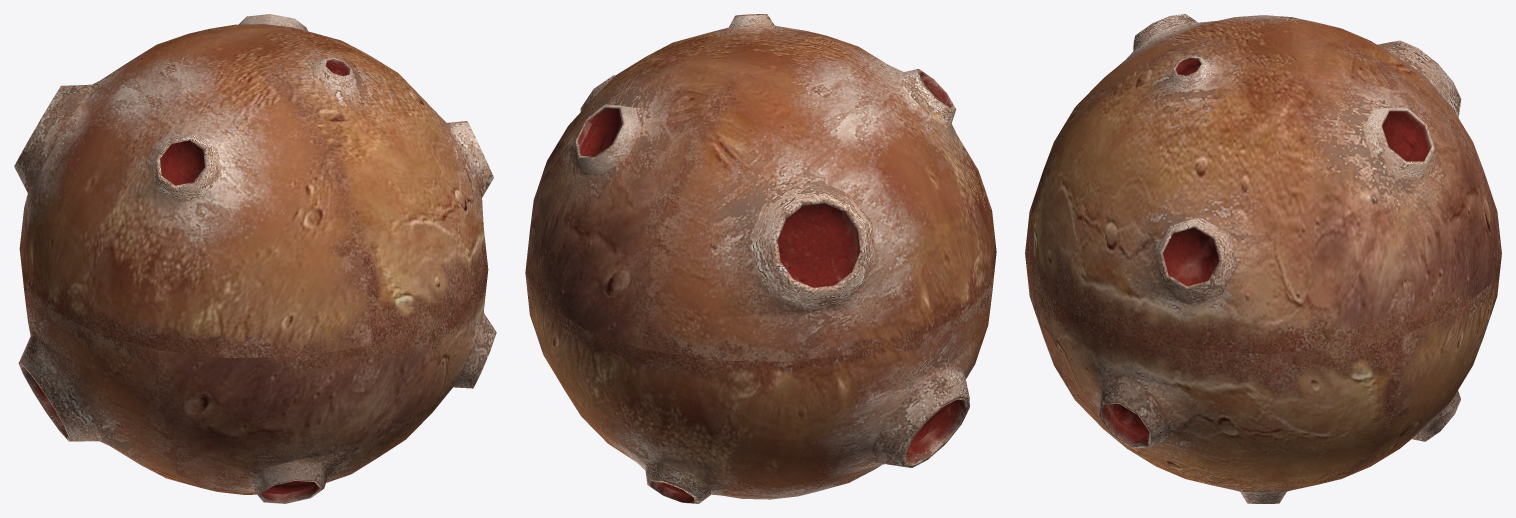
3 renders of one model, left to right at view 1: azimuth 30°, elevation 25°; view 2: azimuth 150°, elevation 25°; view 3: azimuth 270°, elevation 25°, orthographic.
Parts seen in each view (by area): view 1: B612; view 2: B612; view 3: B612.
Part boxes in pixels (box(x1,y1,x2,y2)): B612: box(14, 14, 496, 503); B612: box(525, 14, 996, 503); B612: box(1025, 14, 1501, 503).
Size of the model in its own units: 2.04 by 2 by 2.
Materials: 1 (1 with a texture image).
